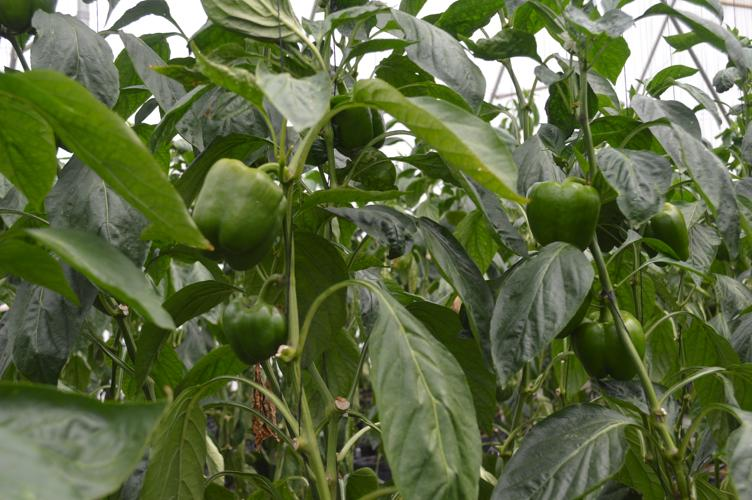BellPepper: (173, 158, 290, 267), (568, 300, 656, 387), (515, 176, 604, 255), (214, 287, 291, 364), (636, 204, 696, 267)
